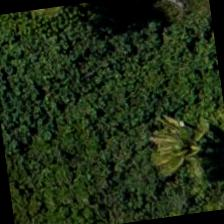Kelapa_Sawit: (152, 102, 223, 202)
